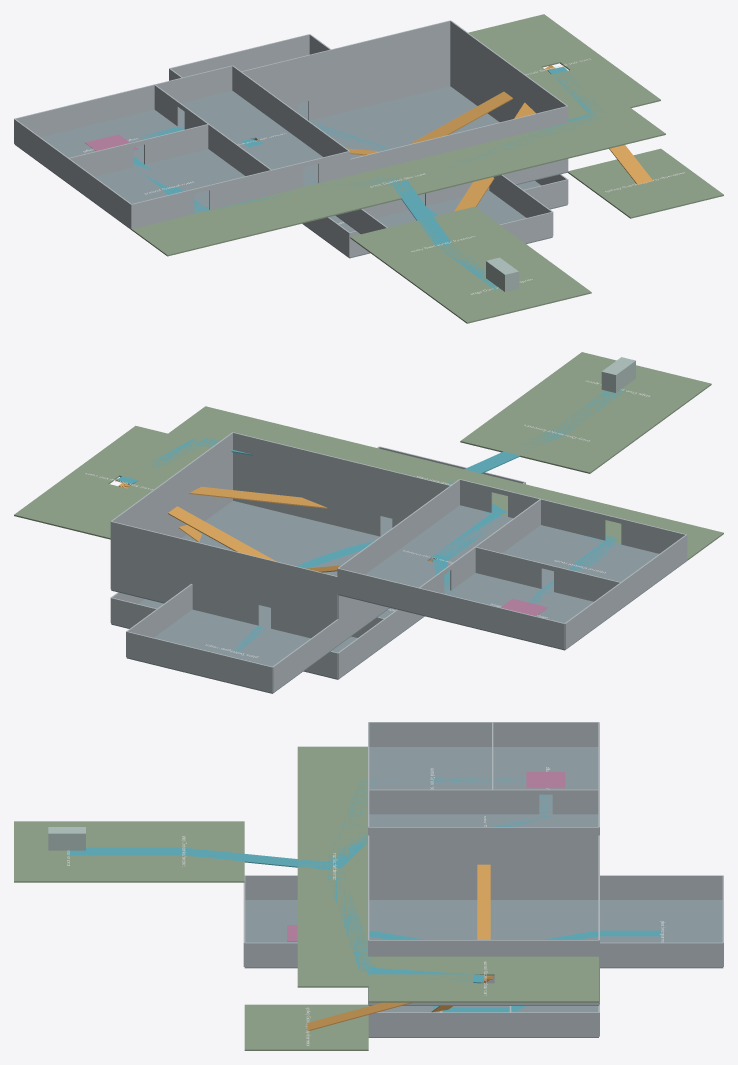
The model's file is rough-shell.glb.
The picture shows the model from 3 angles, top to bottom: view 1: azimuth 30°, elevation 25°; view 2: azimuth 150°, elevation 25°; view 3: azimuth 270°, elevation 25°; orthographic projection. The views are drawn at different scales.
Parts seen in each view (by area): view 1: Floor crest, Wall turbine N.001, Floor entry, Floor stage, Floor spillway, Wall turbine E, Floor control, Floor turbine.005, Wall turbine S.001, Wall office N, Floor office, Wall west-stair E (+40 smaller); view 2: Floor crest, Wall turbine N.001, Wall turbine S.001, Floor entry, Floor stage, Wall turbine E, Floor plant, Floor control, Floor turbine.007, Wall turbine N, Wall office N, Wall plant N (+41 smaller); view 3: Floor crest, Wall turbine W, Floor entry, Wall west-stair E, Floor stage, Floor spillway, Floor control, Floor plant, Wall turbine E, Floor office, Floor turbine.002, Floor turbine (+31 smaller).
Boxes of the visible parts, left/top/right/bottom form: Floor crest: left=131, top=107, right=665, bottom=256; Wall turbine N.001: left=308, top=20, right=450, bottom=120; Floor entry: left=350, top=206, right=537, bottom=283; Floor stage: left=413, top=252, right=591, bottom=323; Floor spillway: left=567, top=148, right=723, bottom=218; Wall turbine E: left=450, top=20, right=568, bottom=170; Floor control: left=69, top=149, right=245, bottom=229; Floor turbine.005: left=350, top=86, right=499, bottom=146; Wall turbine S.001: left=425, top=106, right=567, bottom=205; Wall office N: left=14, top=84, right=154, bottom=137; Floor office: left=14, top=109, right=179, bottom=183; Wall west-stair E: left=232, top=65, right=350, bottom=158; Floor crest: left=168, top=406, right=723, bottom=560; Wall turbine N.001: left=111, top=521, right=259, bottom=625; Wall turbine S.001: left=232, top=432, right=380, bottom=536; Floor entry: left=460, top=393, right=655, bottom=473; Floor stage: left=526, top=352, right=711, bottom=425; Wall turbine E: left=110, top=432, right=232, bottom=588; Floor plant: left=126, top=609, right=337, bottom=693; Floor control: left=503, top=525, right=686, bottom=608; Floor turbine.007: left=182, top=501, right=337, bottom=563; Wall turbine N: left=271, top=560, right=337, bottom=638; Wall office N: left=418, top=588, right=564, bottom=649; Wall plant N: left=126, top=631, right=272, bottom=692; Floor crest: left=297, top=746, right=368, bottom=987; Wall turbine W: left=369, top=837, right=598, bottom=899; Floor entry: left=120, top=821, right=244, bottom=882; Wall west-stair E: left=368, top=827, right=598, bottom=851; Floor stage: left=14, top=821, right=120, bottom=882; Floor spillway: left=244, top=1004, right=368, bottom=1050; Floor control: left=369, top=747, right=491, bottom=789; Floor plant: left=600, top=900, right=723, bottom=968; Wall turbine E: left=368, top=940, right=598, bottom=1004; Floor office: left=493, top=747, right=598, bottom=813; Floor turbine.002: left=369, top=900, right=475, bottom=939; Floor turbine: left=492, top=900, right=598, bottom=939.
Size of the model in its own units: 68.08 by 13.16 by 80.08.
